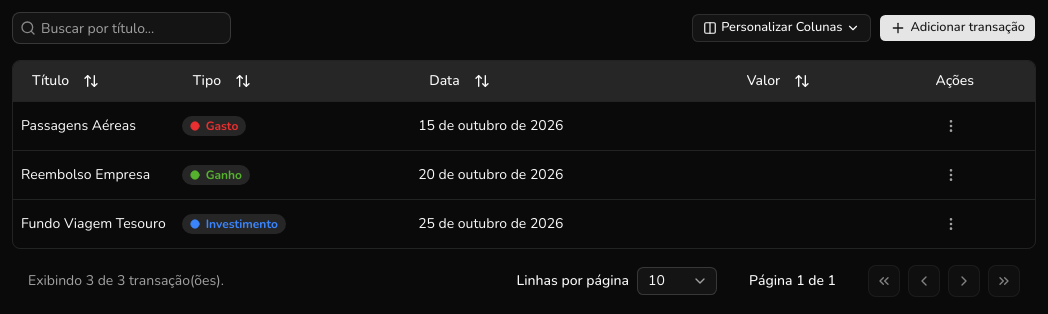
Test case: EventTransactionsTable › renders row action buttons for editing and deleting each transaction
The image size is (1048, 314).
# Opening an action dropdown displays Edit and Delete menu options
Step 1. Click the button named "ações da transação" in the row of "Passagens Aéreas" → x=952, y=126, box [936,110,968,142]
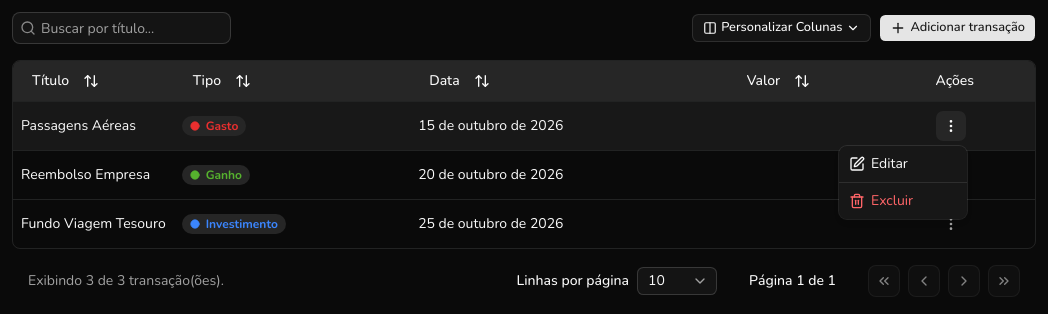
Now the menu item "Editar" is shown, box [849,154,908,173]
Now the menu item "Excluir" is shown, box [849,191,913,210]
